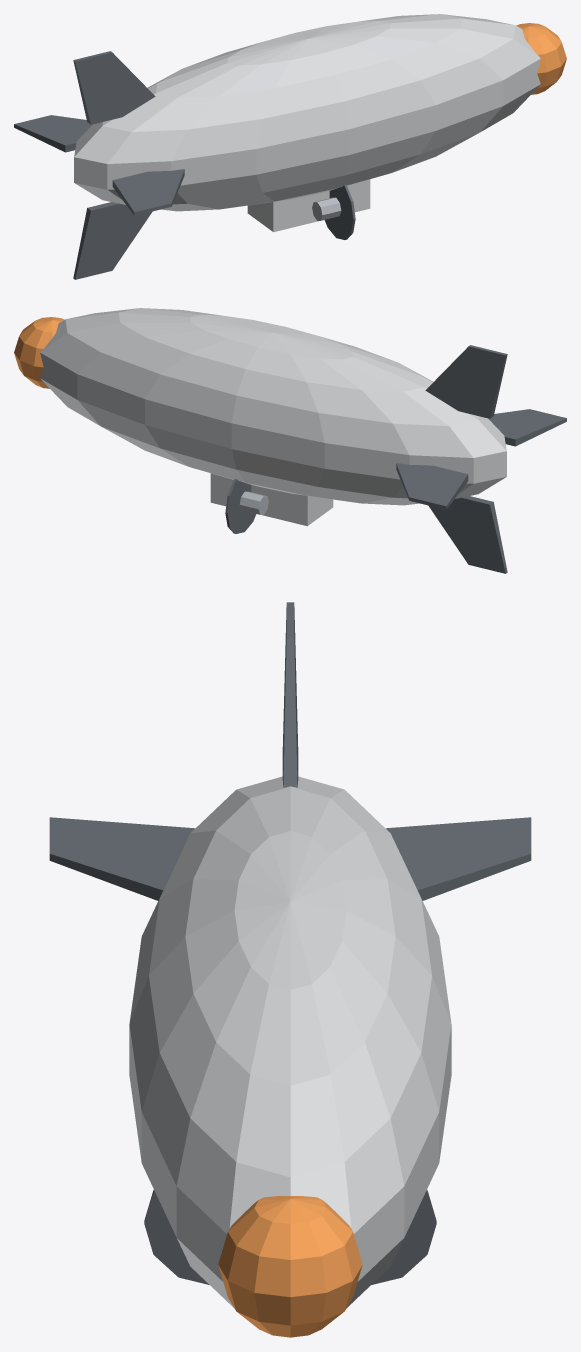
File: airship.glb
The picture shows the model from 3 angles, top to bottom: view 1: azimuth 30°, elevation 25°; view 2: azimuth 150°, elevation 25°; view 3: azimuth 270°, elevation 25°; orthographic projection. The views are drawn at different scales.
Size of the model in its own units: 6.55 by 2.85 by 2.8.
